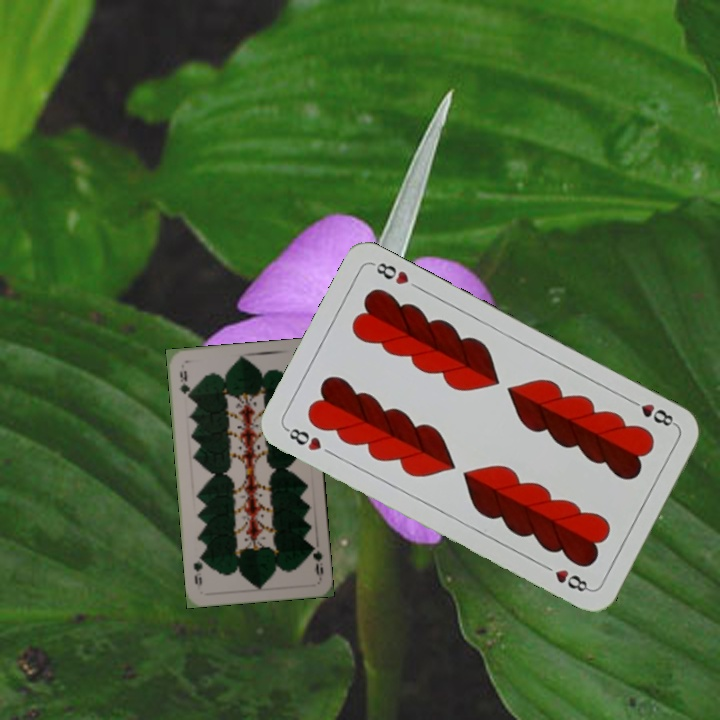G9: (306, 541, 326, 581), (175, 366, 192, 403)
H8: (625, 395, 679, 429), (281, 423, 324, 454)
